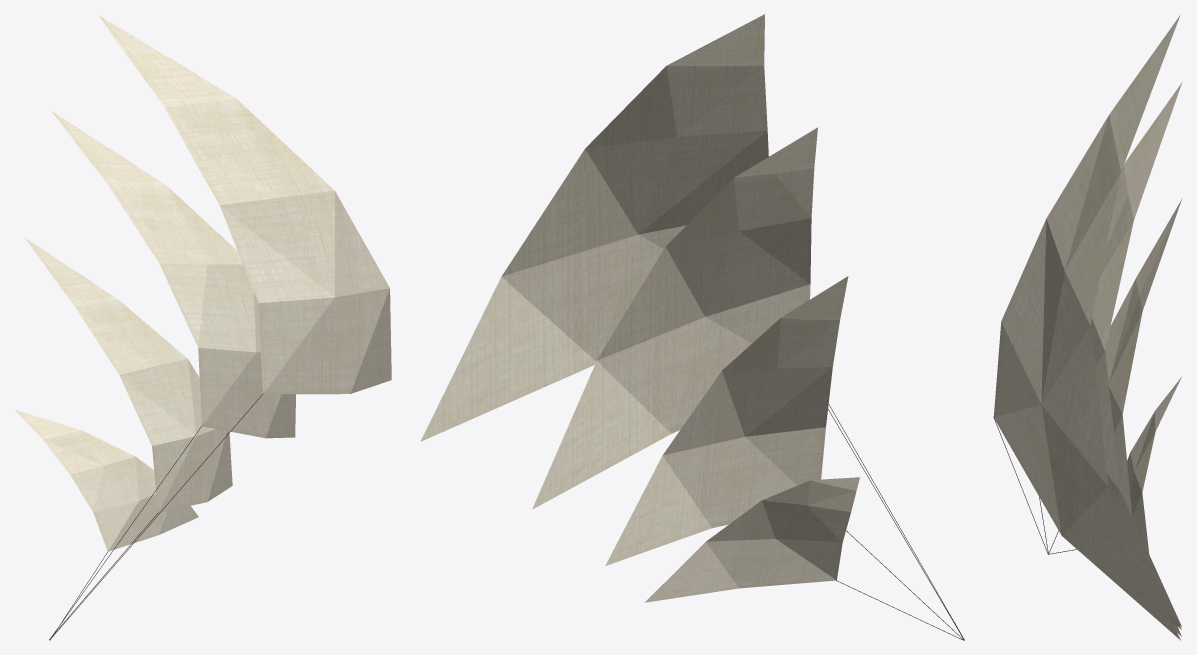
File: LineWarship80-cannonsKliver_LOD2.FBX
3 renders of one model, left to right at view 1: azimuth 30°, elevation 25°; view 2: azimuth 150°, elevation 25°; view 3: azimuth 270°, elevation 25°, orthographic. The views are drawn at different scales.
Parts seen in each view (by area): view 1: LineWarship80CannonsKliverLD2_001, LineWarship80CannonsKliverRopesLD0_004; view 2: LineWarship80CannonsKliverLD2_001, LineWarship80CannonsKliverRopesLD0_004; view 3: LineWarship80CannonsKliverLD2_001, LineWarship80CannonsKliverRopesLD0_004.
Part boxes in pixels (<box>): LineWarship80CannonsKliverLD2_001: <box>15,14,391,551</box>; LineWarship80CannonsKliverRopesLD0_004: <box>49,393,263,640</box>; LineWarship80CannonsKliverLD2_001: <box>420,14,859,602</box>; LineWarship80CannonsKliverRopesLD0_004: <box>828,404,964,640</box>; LineWarship80CannonsKliverLD2_001: <box>993,14,1182,640</box>; LineWarship80CannonsKliverRopesLD0_004: <box>993,417,1076,554</box>.
Bounding box in the file's own units: 982 × 1289 × 370.
